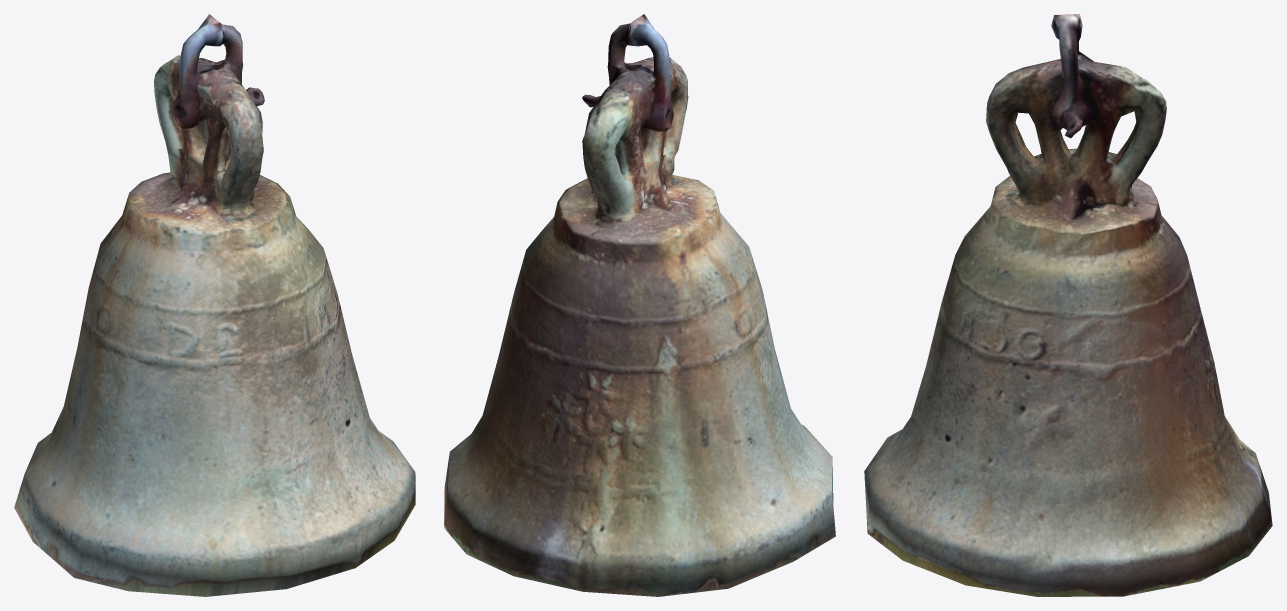
The model's file is old_church_bell-BsOvIDQ7.glb.
The picture shows the model from 3 angles, left to right: view 1: azimuth 30°, elevation 25°; view 2: azimuth 150°, elevation 25°; view 3: azimuth 270°, elevation 25°; orthographic projection. The views are drawn at different scales.
Parts seen in each view (by area): view 1: Object_2; view 2: Object_2; view 3: Object_2.
Boxes of the visible parts, x1=… form: Object_2: x1=14, y1=14, x2=415, y2=596; Object_2: x1=444, y1=14, x2=835, y2=596; Object_2: x1=864, y1=14, x2=1272, y2=596.
Size of the model in its own units: 0.3682 by 0.5939 by 0.376.
1 material, 1 textured.
